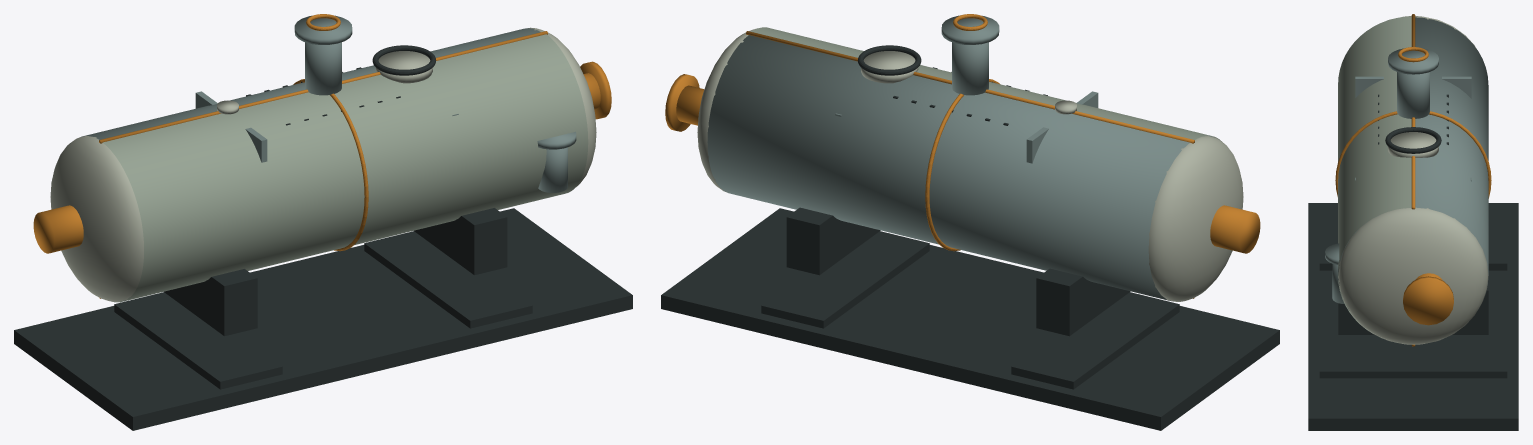
The model's file is separator.obj.
The picture shows the model from 3 angles, left to right: view 1: azimuth 30°, elevation 25°; view 2: azimuth 150°, elevation 25°; view 3: azimuth 270°, elevation 25°; orthographic projection. The views are drawn at different scales.
Parts seen in each view (by area): view 1: separator_cut_shell, separator_skid, separator_head_left, separator_base_right, separator_base_left, separator_saddle_left, separator_saddle_right, separator_shell, separator_inlet, separator_gas_outlet, separator_cut_edge_top, separator_head_right (+7 smaller); view 2: separator_shell, separator_skid, separator_head_left, separator_base_right, separator_base_left, separator_saddle_left, separator_saddle_right, separator_cut_shell, separator_inlet, separator_gas_outlet, separator_head_right, separator_cut_edge_top (+7 smaller); view 3: separator_skid, separator_head_right, separator_cut_shell, separator_shell, separator_base_right, separator_oil_outlet_flange, separator_gas_outlet, separator_saddle_right, separator_base_left, separator_gas_outlet_flange, separator_manway, separator_cutaway_rim (+6 smaller).
Part boxes in pixels (x1,y1,x2,y2): separator_cut_shell: [102, 34, 588, 302]; separator_skid: [14, 208, 632, 430]; separator_head_left: [50, 135, 143, 301]; separator_base_right: [364, 231, 532, 328]; separator_base_left: [114, 292, 282, 389]; separator_saddle_left: [164, 269, 257, 336]; separator_saddle_right: [414, 208, 507, 275]; separator_shell: [81, 28, 540, 301]; separator_inlet: [33, 205, 83, 253]; separator_gas_outlet: [305, 42, 341, 95]; separator_cut_edge_top: [99, 31, 547, 143]; separator_head_right: [528, 27, 596, 186]; separator_shell: [707, 35, 1212, 301]; separator_skid: [661, 208, 1279, 430]; separator_head_left: [1148, 135, 1243, 301]; separator_base_right: [761, 231, 929, 328]; separator_base_left: [1011, 292, 1179, 389]; separator_saddle_left: [1036, 268, 1130, 336]; separator_saddle_right: [786, 207, 880, 275]; separator_cut_shell: [751, 27, 1221, 141]; separator_inlet: [1210, 205, 1260, 253]; separator_gas_outlet: [952, 42, 988, 95]; separator_head_right: [697, 28, 757, 192]; separator_cut_edge_top: [746, 31, 1194, 143]; separator_skid: [1308, 203, 1518, 430]; separator_head_right: [1338, 207, 1488, 344]; separator_cut_shell: [1338, 16, 1411, 338]; separator_shell: [1338, 17, 1488, 310]; separator_base_right: [1319, 344, 1507, 378]; separator_oil_outlet_flange: [1403, 276, 1453, 325]; separator_gas_outlet: [1397, 72, 1429, 118]; separator_saddle_right: [1338, 276, 1488, 334]; separator_base_left: [1319, 236, 1507, 270]; separator_gas_outlet_flange: [1388, 48, 1438, 74]; separator_manway: [1388, 132, 1438, 157]; separator_cutaway_rim: [1335, 111, 1491, 198].
Bounding box in the file's own units: 7.64 × 3.97 × 2.8.
